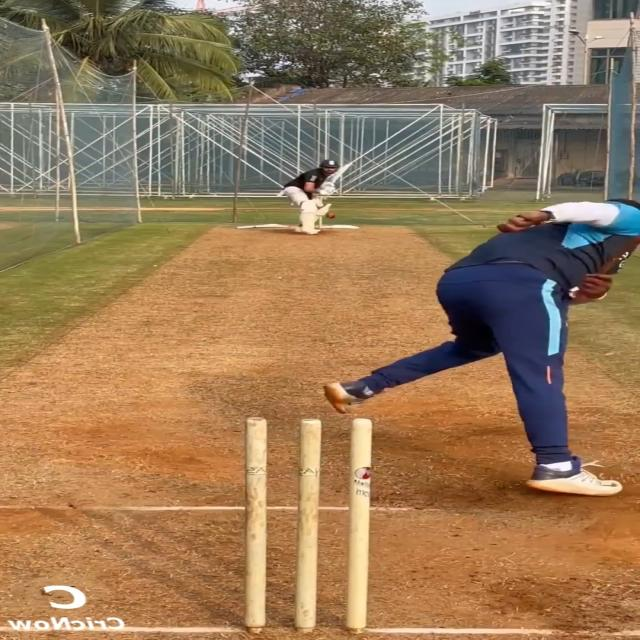ball: (325, 213, 336, 219)
stump: (241, 416, 381, 633)
